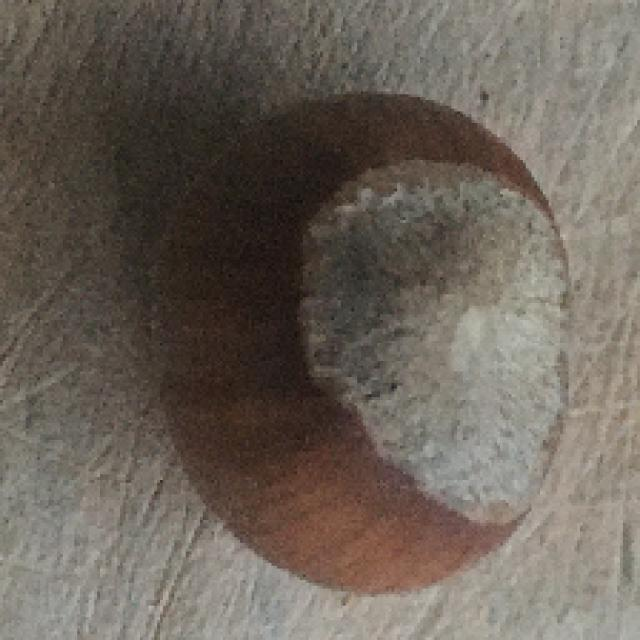QualityHazelnut: (151, 86, 580, 597)
